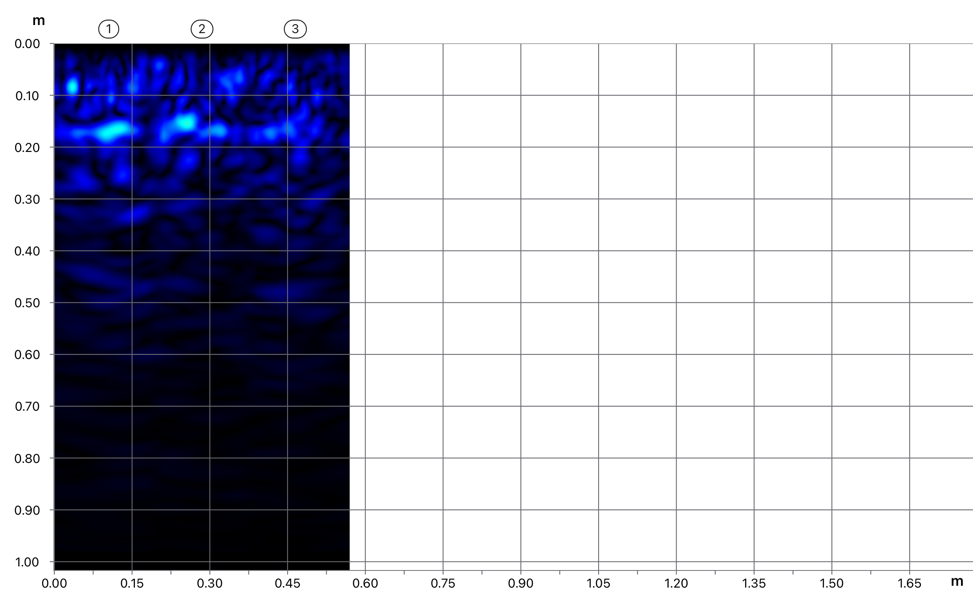crop: (3, 2, 352, 331)
